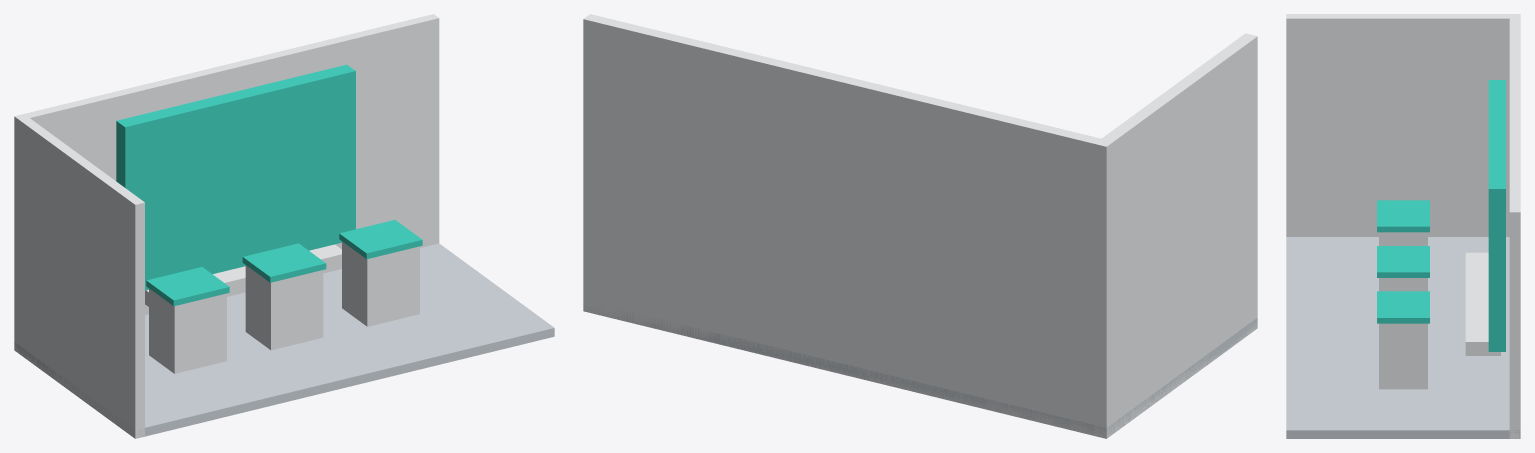
3 views of the same model, side by side, from view 1: azimuth 30°, elevation 25°; view 2: azimuth 150°, elevation 25°; view 3: azimuth 270°, elevation 25° (orthographic). The views are drawn at different scales.
Parts seen in each view (by area): view 1: Exhibition Booth Concept; view 2: Exhibition Booth Concept; view 3: Exhibition Booth Concept.
Part boxes in pixels (<box>): Exhibition Booth Concept: <box>14,14,554,438</box>; Exhibition Booth Concept: <box>583,14,1257,438</box>; Exhibition Booth Concept: <box>1286,14,1520,438</box>.
Bounding box in the file's own units: 6 × 3.2 × 3.
